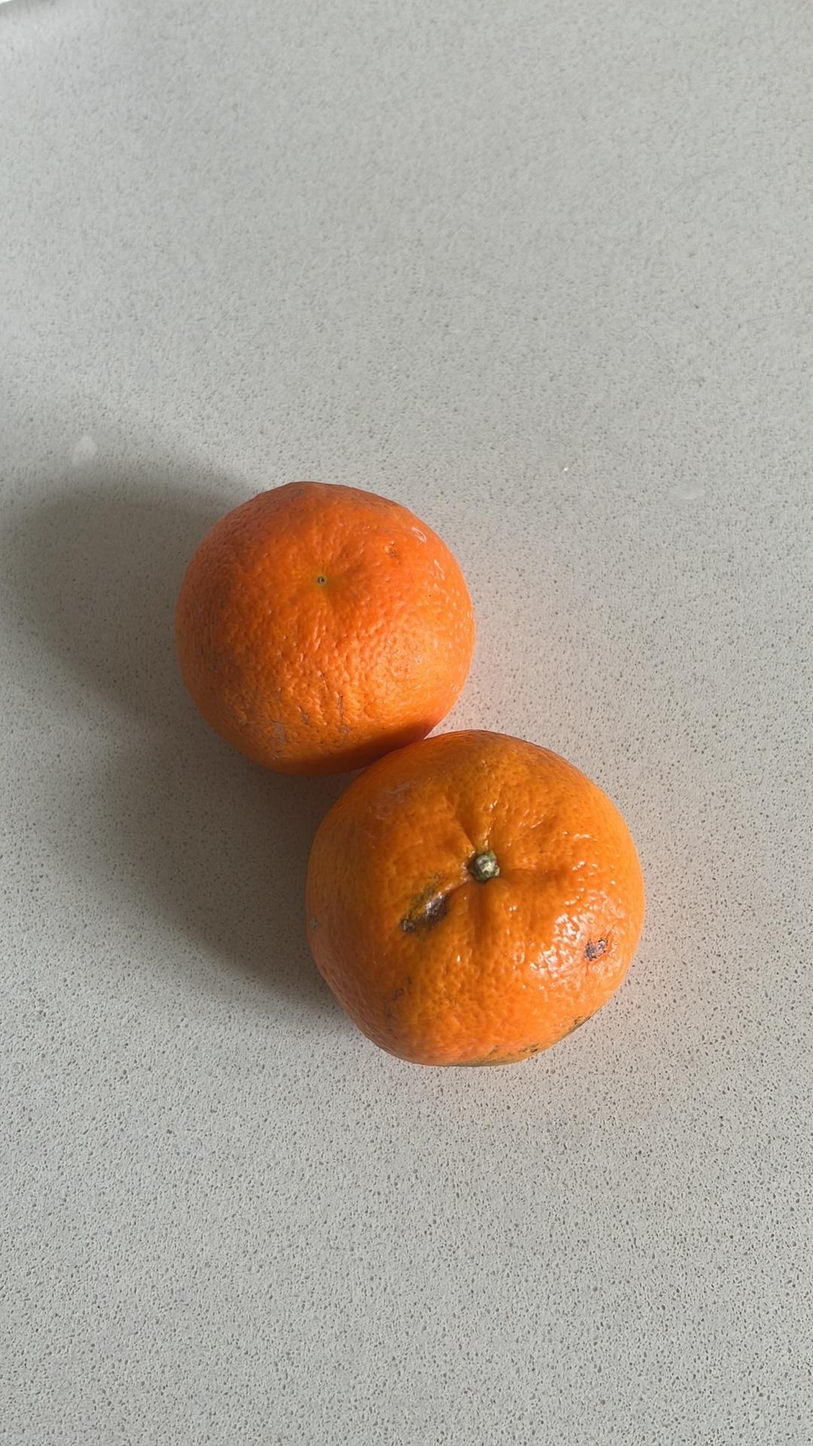mandarin: (305, 725, 659, 1074), (175, 469, 475, 774)
